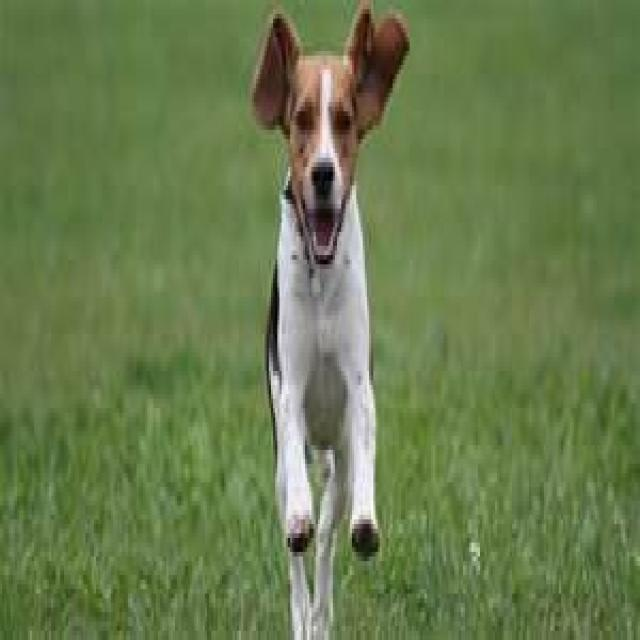dog: (247, 0, 412, 640)
